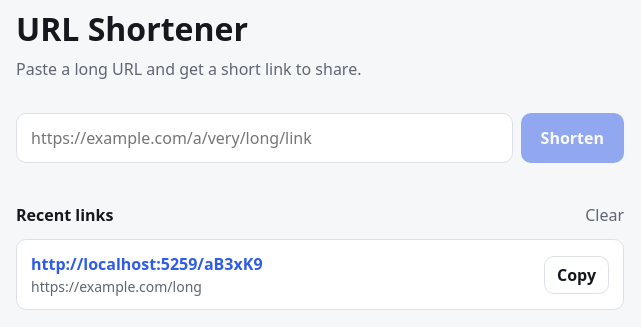
Test: App › clears the recent links
Click the button "Clear" at (605, 215), box x1=585 y1=203 x2=624 y2=227
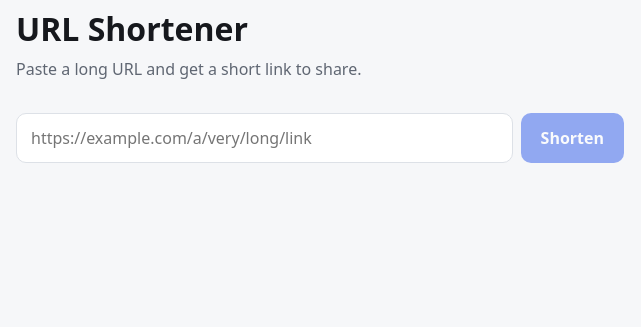
Check: the link "http://localhost:5259/aB3xK9" is gone
